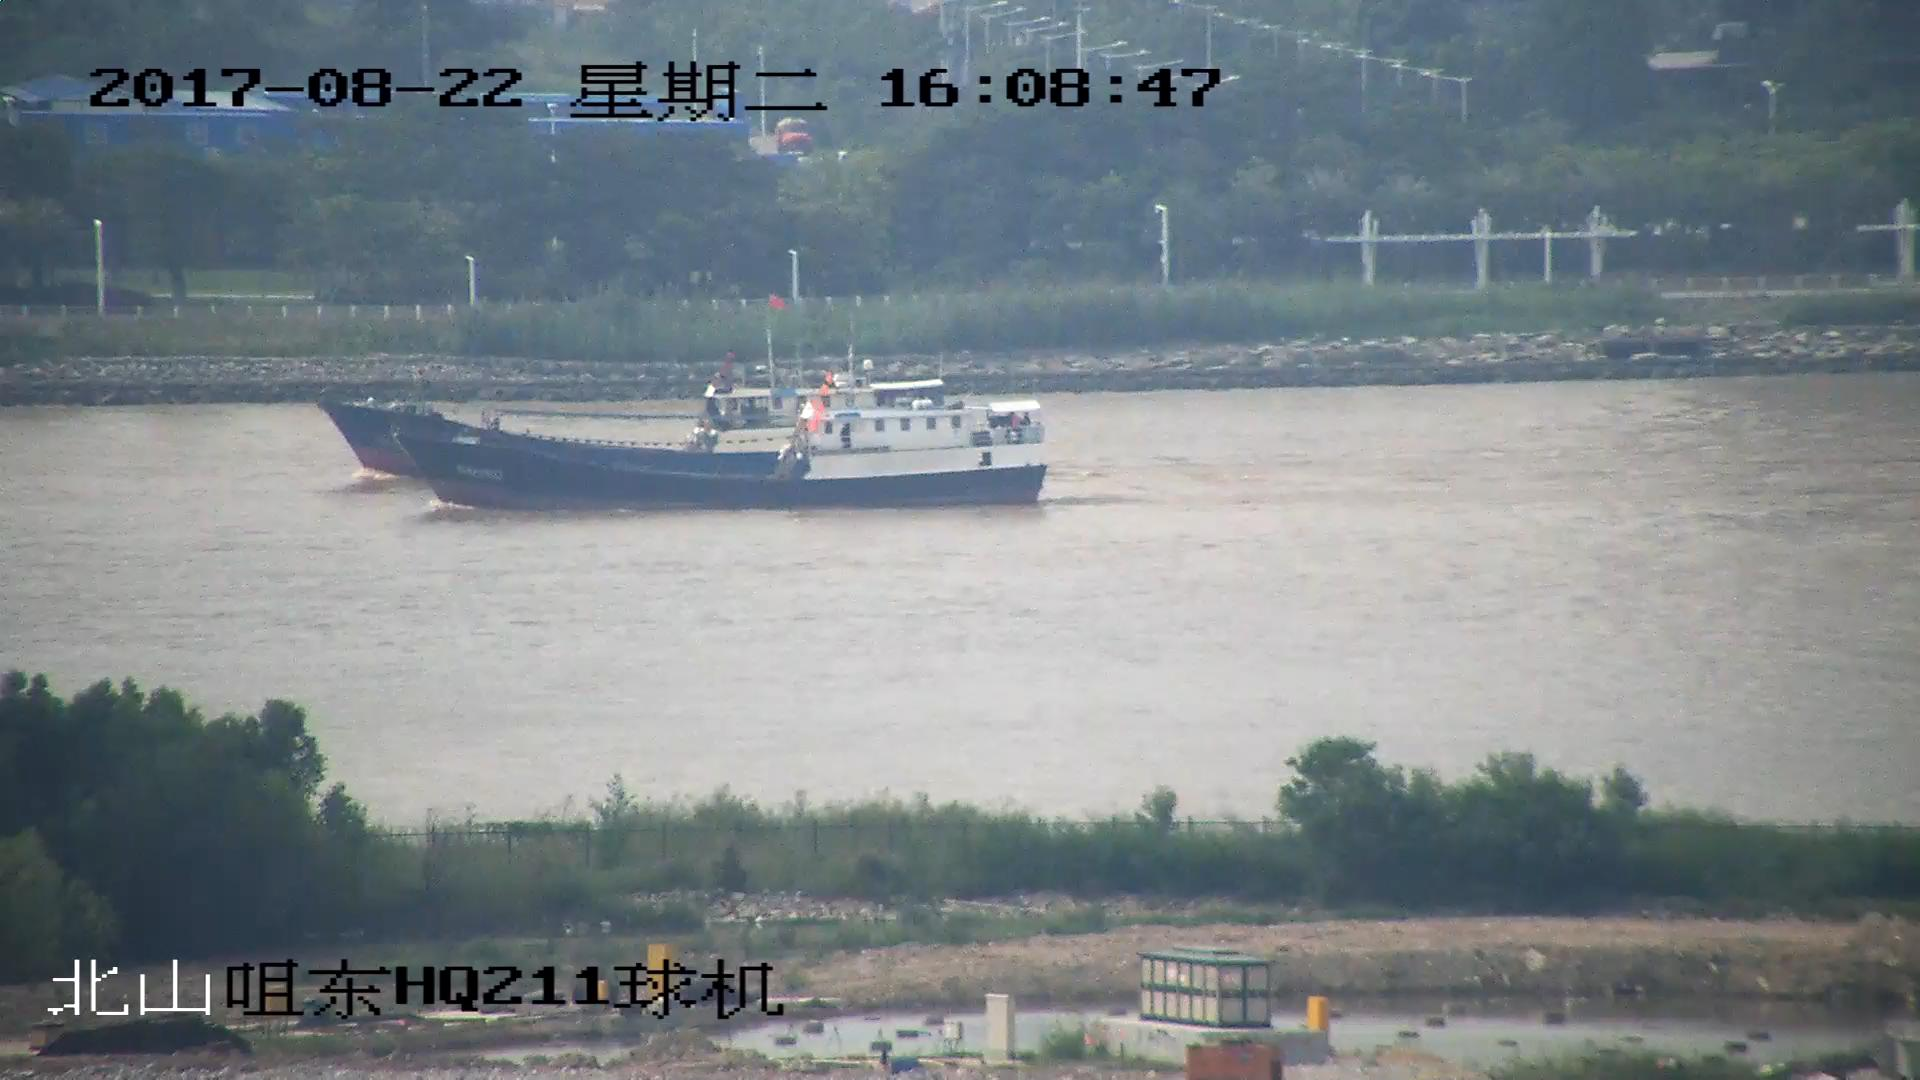fishing boat: (319, 299, 940, 484), (406, 376, 1046, 516)
